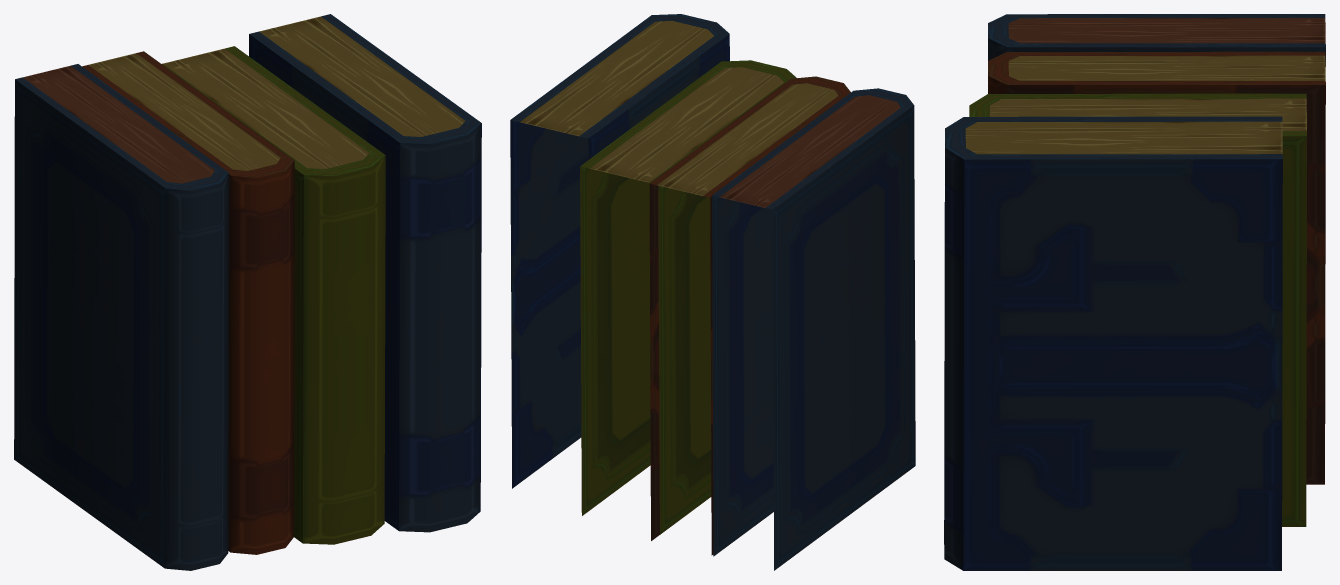
Rendered from BookGroup_Small_2.gltf.
3 renders of one model, left to right at view 1: azimuth 30°, elevation 25°; view 2: azimuth 150°, elevation 25°; view 3: azimuth 270°, elevation 25°, orthographic. The views are drawn at different scales.
Parts seen in each view (by area): view 1: BookGroup_Small_2; view 2: BookGroup_Small_2; view 3: BookGroup_Small_2.
Part boxes in pixels (box(x1,y1,x2,y2)): BookGroup_Small_2: box(14, 14, 481, 570); BookGroup_Small_2: box(510, 14, 915, 570); BookGroup_Small_2: box(944, 14, 1325, 570).
Size of the model in its own units: 0.2276 by 0.2831 by 0.2372.
Materials: 1 (1 with a texture image).
